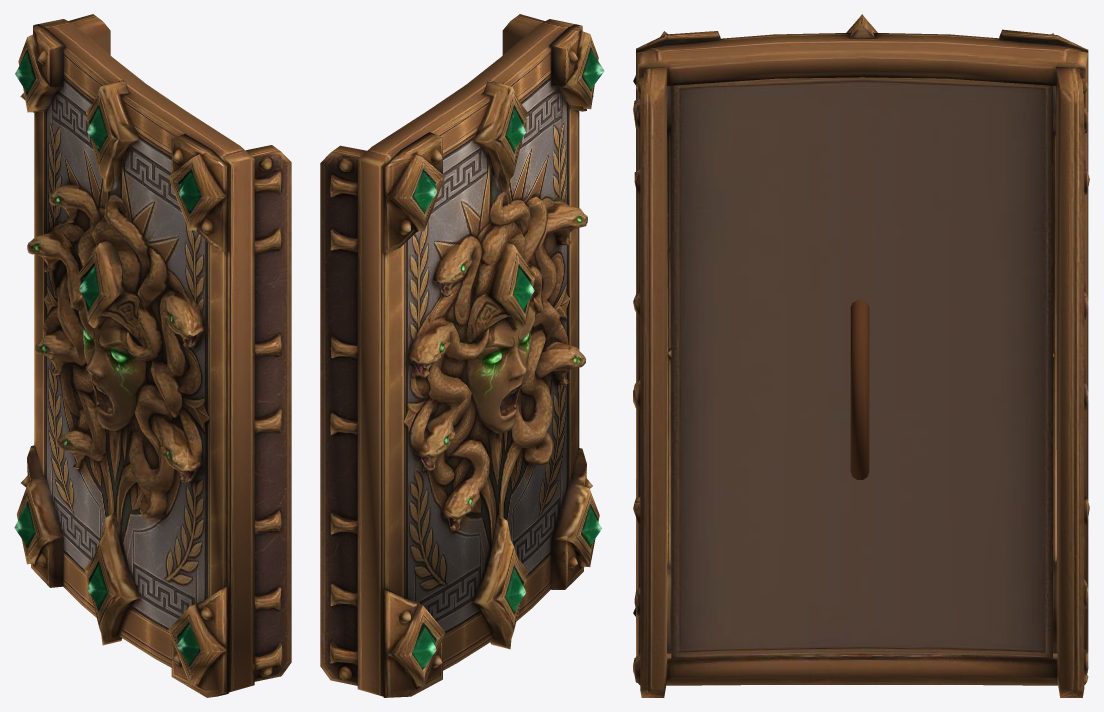
3 renders of one model, left to right at view 1: azimuth 30°, elevation 25°; view 2: azimuth 150°, elevation 25°; view 3: azimuth 270°, elevation 25°, orthographic. The views are drawn at different scales.
Parts seen in each view (by area): view 1: tripo_node_3ac46f97-2626-4877-9002-b5e13418656e; view 2: tripo_node_3ac46f97-2626-4877-9002-b5e13418656e; view 3: tripo_node_3ac46f97-2626-4877-9002-b5e13418656e, Shield_rear_grip.
Boxes of the visible parts, left/top/right/bottom form: tripo_node_3ac46f97-2626-4877-9002-b5e13418656e: left=14, top=14, right=291, bottom=697; tripo_node_3ac46f97-2626-4877-9002-b5e13418656e: left=320, top=14, right=604, bottom=697; tripo_node_3ac46f97-2626-4877-9002-b5e13418656e: left=633, top=14, right=1089, bottom=697; Shield_rear_grip: left=850, top=300, right=869, bottom=479.
Size of the model in its own units: 0.1721 by 0.62 by 0.3919.
Materials: 2 (1 with a texture image).
